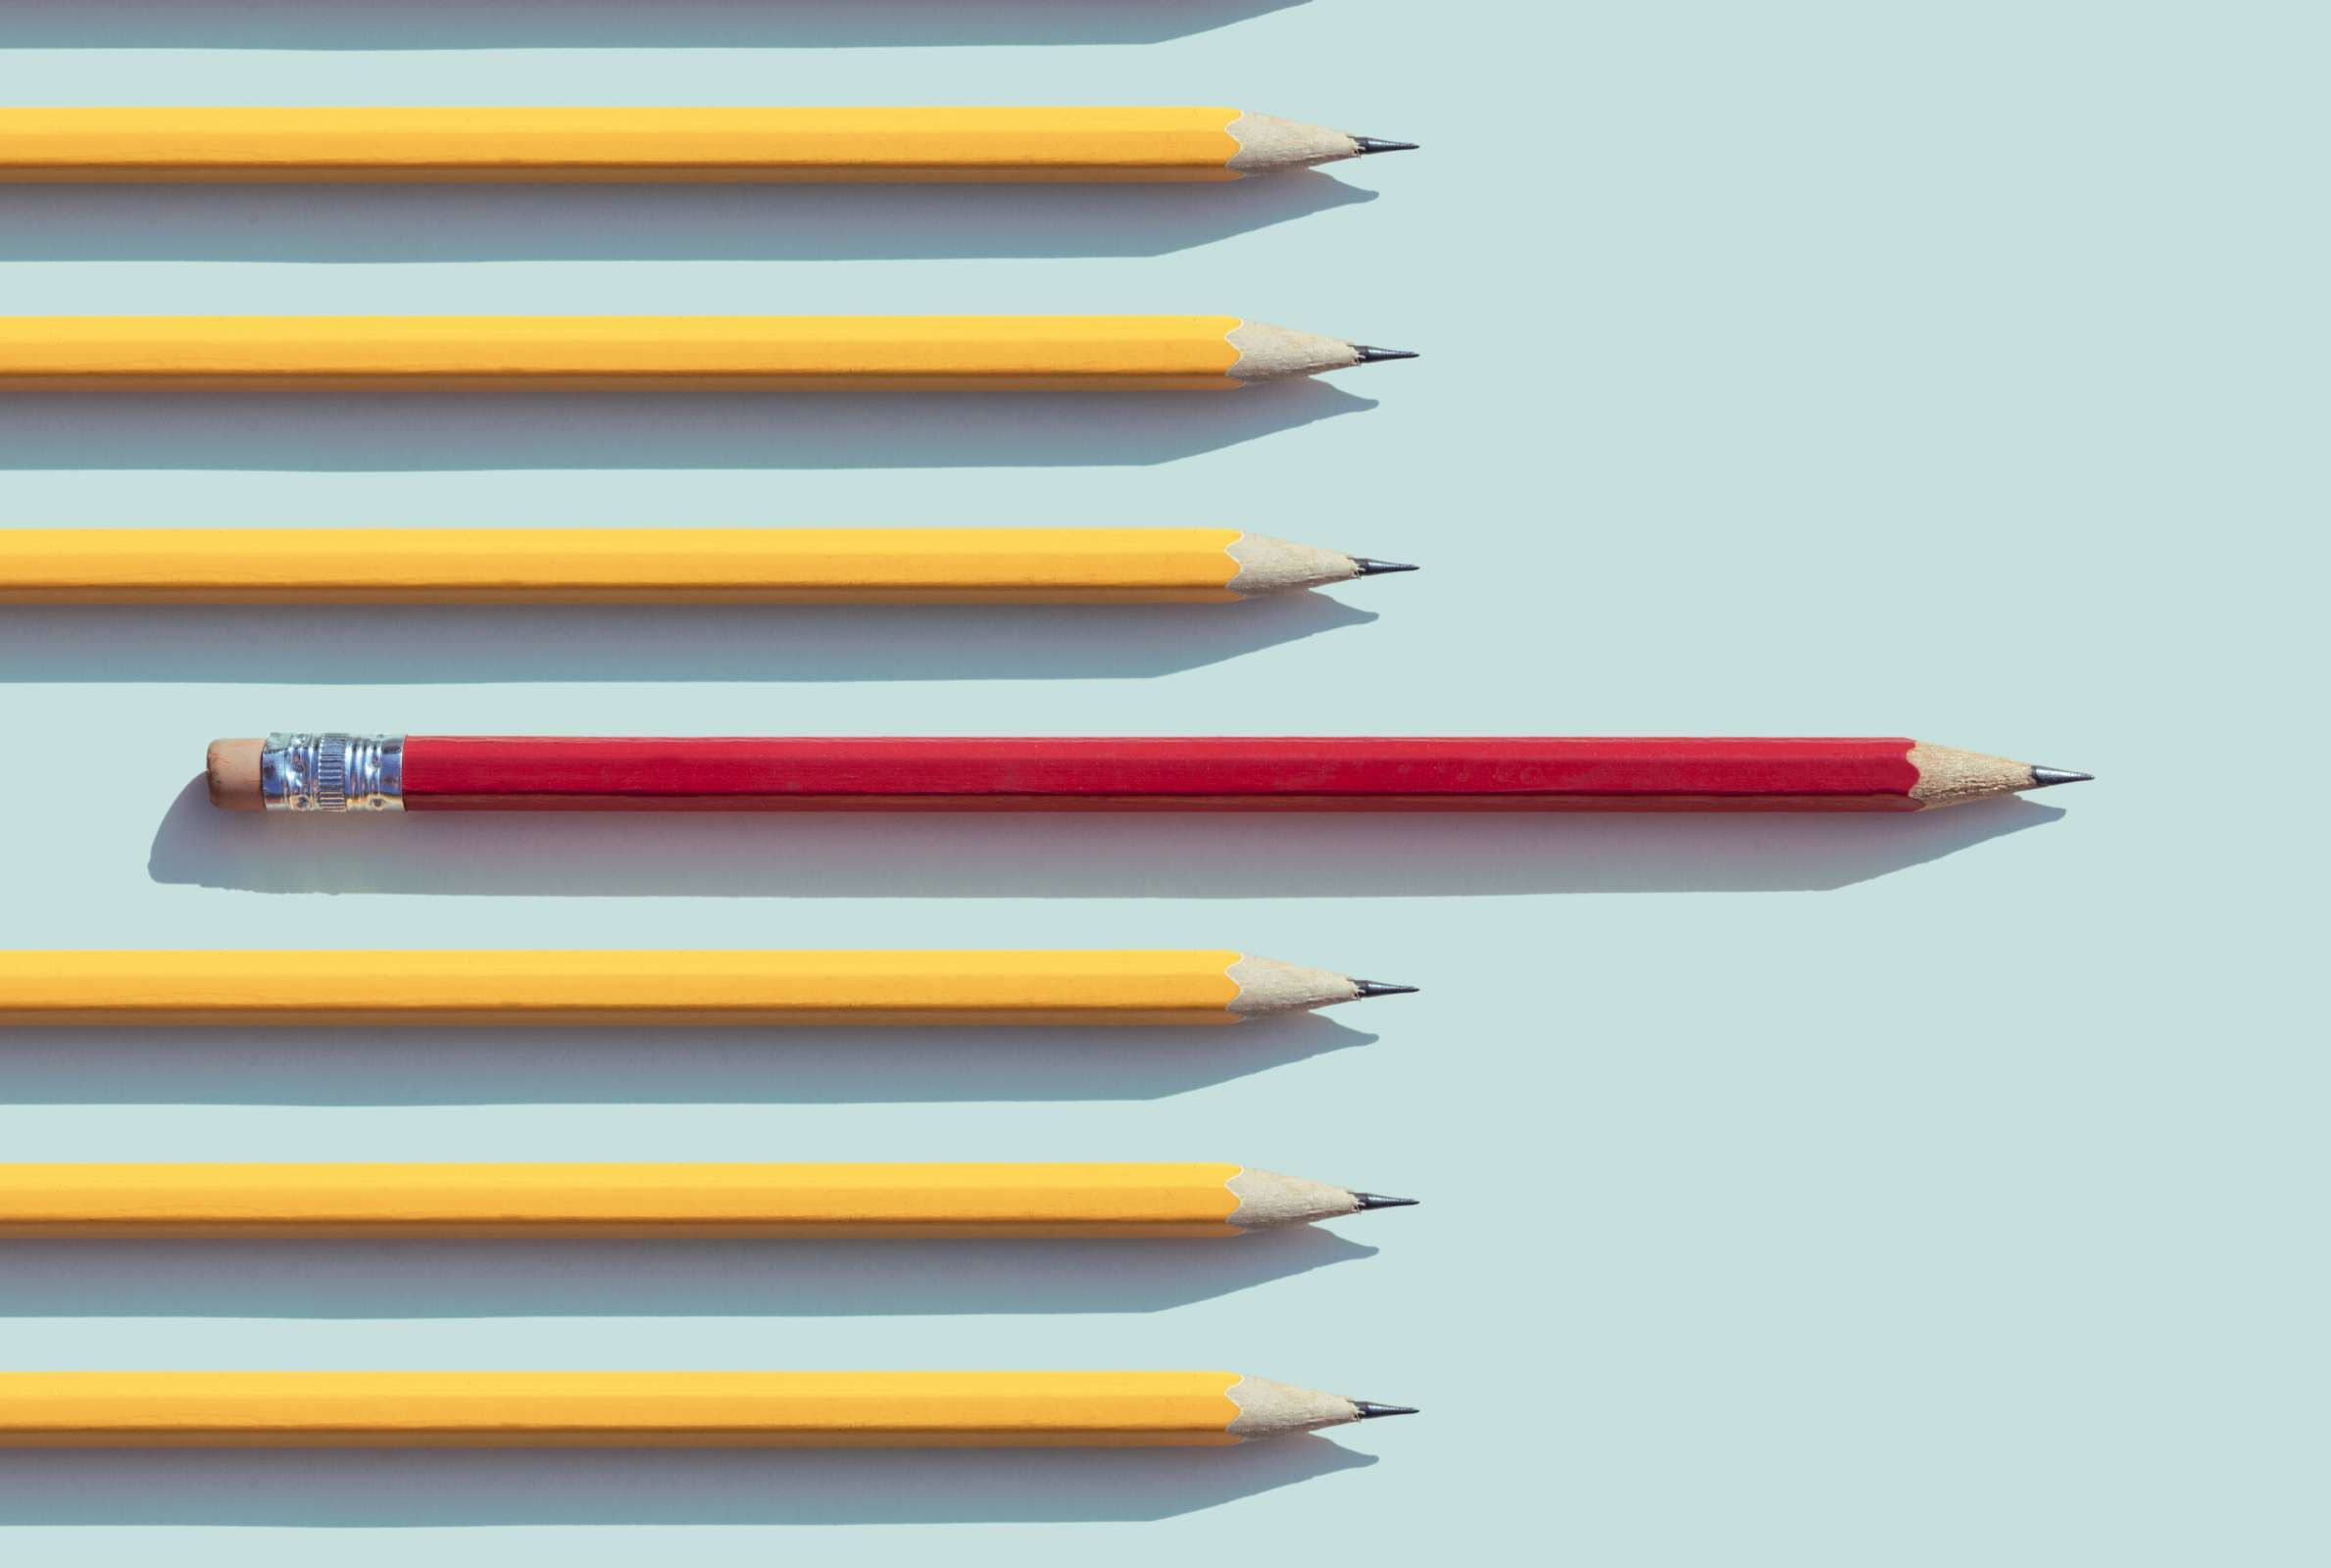pencil: (173, 653, 2151, 903)
